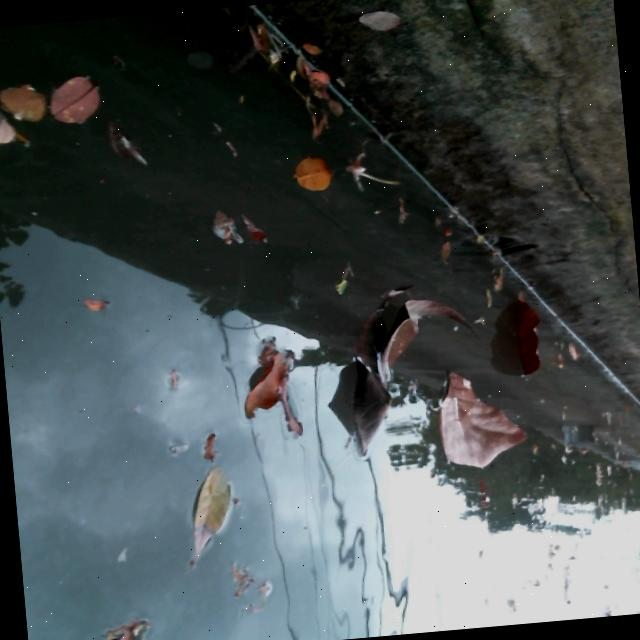Big-leaf: (309, 289, 483, 480), (427, 366, 528, 476), (233, 340, 318, 449), (504, 288, 556, 384)
Small-leaf: (165, 466, 252, 566), (175, 184, 271, 253), (50, 55, 131, 136), (90, 107, 153, 178), (416, 200, 464, 273), (0, 76, 56, 123), (320, 251, 358, 311), (288, 147, 337, 191), (80, 614, 162, 640), (0, 83, 22, 147)
